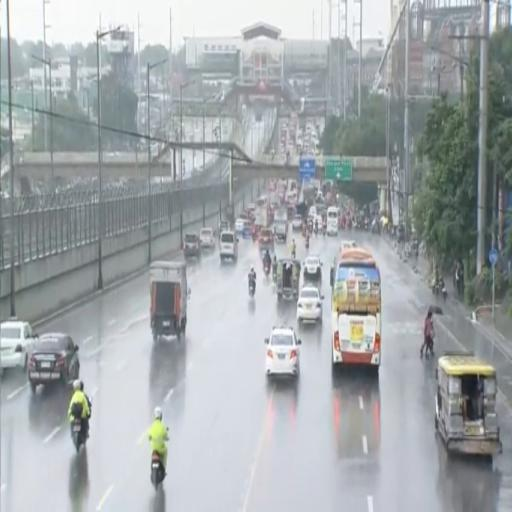bus: (331, 248, 381, 373), (327, 206, 338, 235), (256, 196, 268, 206)
car: (28, 333, 79, 392), (0, 318, 35, 371), (265, 327, 301, 377), (297, 286, 323, 323), (220, 231, 238, 263), (304, 256, 322, 280), (184, 234, 200, 258), (200, 228, 215, 248), (259, 228, 273, 249), (219, 221, 230, 238), (340, 240, 357, 250), (292, 215, 302, 231), (235, 218, 244, 233)
jeepney: (435, 352, 502, 455), (276, 259, 301, 300)
motorcycle: (71, 405, 88, 453), (151, 452, 164, 490), (72, 418, 85, 453), (432, 279, 447, 301), (439, 280, 447, 301), (249, 279, 255, 297), (264, 261, 270, 277), (364, 218, 369, 231), (306, 236, 310, 250), (292, 248, 296, 259), (314, 226, 318, 234), (323, 226, 326, 236), (421, 352, 422, 357)
truck: (150, 262, 190, 342), (274, 208, 288, 242), (254, 205, 269, 229)
